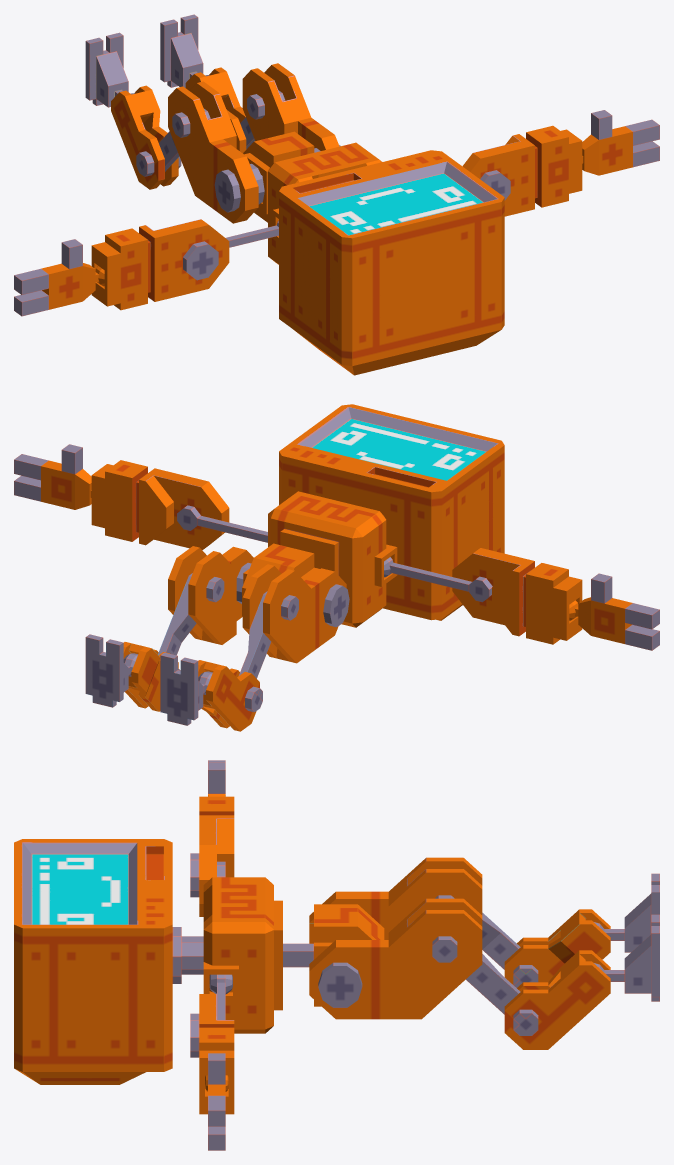
The model's file is rig.03.base.obj.
3 views of the same model, one above another, from view 1: azimuth 30°, elevation 25°; view 2: azimuth 150°, elevation 25°; view 3: azimuth 270°, elevation 25° (orthographic). The views are drawn at different scales.
Visible parts, largest first — view 1: Head, Lower_Arm.L, Upper_Leg.L, Lower_Arm.R, Upper_Leg.R, Lower_Leg.L, Spine, Foot.L, Foot.R, Hips, Hand.L, Hand.R (+11 smaller); view 2: Head, Spine, Lower_Arm.R, Lower_Arm.L, Upper_Leg.L, Upper_Leg.R, Foot.R, Foot.L, Lower_Leg.L, Hand.L, Hand.R, Lower_Leg.R (+12 smaller); view 3: Head, Upper_Leg.R, Spine, Lower_Leg.R, Upper_Leg.L, Lower_Leg.L, Hips, Lower_Arm.L, Lower_Arm.R, Middle_Leg.R, Foot.R, Foot.L (+8 smaller).
Part boxes in pixels (bbox=[...]): Head: bbox=[279, 150, 504, 375]; Lower_Arm.L: bbox=[91, 219, 229, 310]; Upper_Leg.L: bbox=[168, 81, 258, 223]; Lower_Arm.R: bbox=[462, 125, 582, 216]; Upper_Leg.R: bbox=[242, 63, 339, 150]; Lower_Leg.L: bbox=[111, 85, 178, 189]; Spine: bbox=[268, 142, 381, 264]; Foot.L: bbox=[85, 32, 134, 107]; Foot.R: bbox=[160, 14, 209, 87]; Hips: bbox=[243, 131, 314, 222]; Hand.L: bbox=[41, 263, 104, 309]; Hand.R: bbox=[582, 126, 632, 175]; Head: bbox=[279, 404, 504, 620]; Spine: bbox=[268, 491, 397, 627]; Lower_Arm.R: bbox=[91, 460, 229, 550]; Lower_Arm.L: bbox=[452, 548, 582, 644]; Upper_Leg.L: bbox=[242, 564, 346, 663]; Upper_Leg.R: bbox=[168, 546, 253, 644]; Foot.R: bbox=[85, 634, 137, 707]; Foot.L: bbox=[160, 652, 212, 725]; Lower_Leg.L: bbox=[198, 660, 259, 731]; Hand.L: bbox=[569, 597, 632, 643]; Hand.R: bbox=[41, 460, 91, 509]; Lower_Leg.R: bbox=[123, 642, 178, 711]; Head: bbox=[14, 839, 172, 1084]; Upper_Leg.R: bbox=[309, 898, 482, 1019]; Spine: bbox=[203, 877, 282, 1033]; Lower_Leg.R: bbox=[504, 950, 610, 1049]; Upper_Leg.L: bbox=[309, 857, 482, 943]; Lower_Leg.L: bbox=[504, 909, 610, 984]; Hips: bbox=[283, 904, 384, 1006]; Lower_Arm.L: bbox=[199, 796, 234, 916]; Lower_Arm.R: bbox=[199, 994, 234, 1114]; Middle_Leg.R: bbox=[432, 936, 538, 1035]; Foot.R: bbox=[594, 914, 659, 1001]; Foot.L: bbox=[594, 873, 659, 952].
Size of the model in its own units: 5.88 by 1.31 by 4.58.
